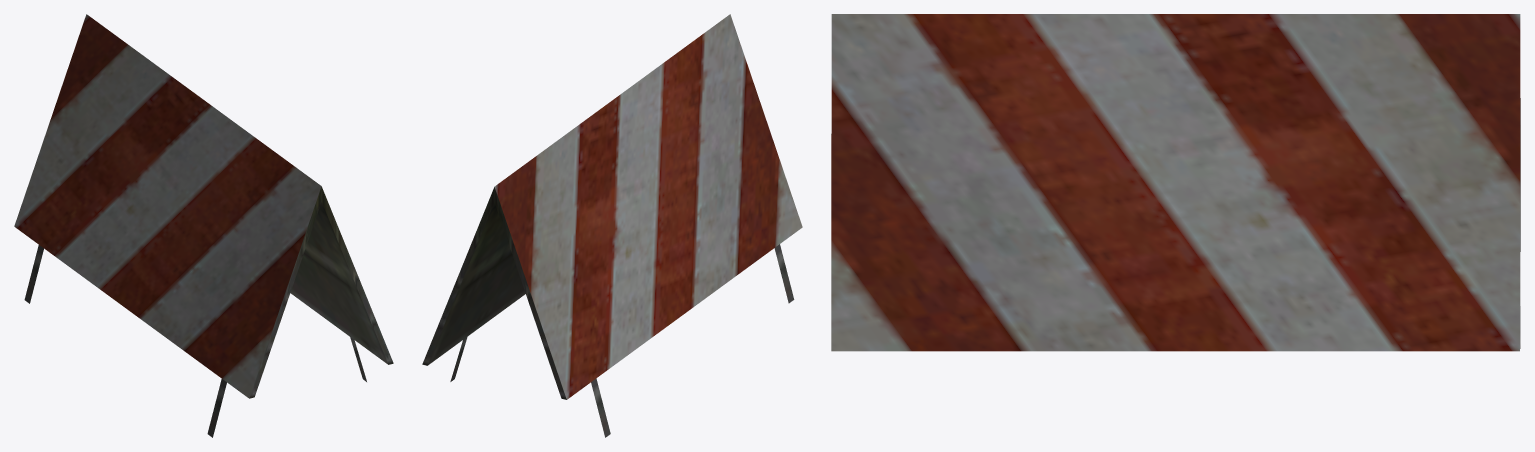
The model's file is sign.glb.
3 views of the same model, side by side, from view 1: azimuth 30°, elevation 25°; view 2: azimuth 150°, elevation 25°; view 3: azimuth 270°, elevation 25° (orthographic). The views are drawn at different scales.
Parts seen in each view (by area): view 1: XO_ROADSIGNA_1B_00; view 2: XO_ROADSIGNA_1B_00; view 3: XO_ROADSIGNA_1B_00.
Part boxes in pixels (x1=…): XO_ROADSIGNA_1B_00: x1=14, y1=14, x2=393, y2=437; XO_ROADSIGNA_1B_00: x1=422, y1=14, x2=802, y2=437; XO_ROADSIGNA_1B_00: x1=831, y1=14, x2=1520, y2=351.
Size of the model in its own units: 1.14 by 1.56 by 2.69.
Materials: 2 (2 with a texture image).
